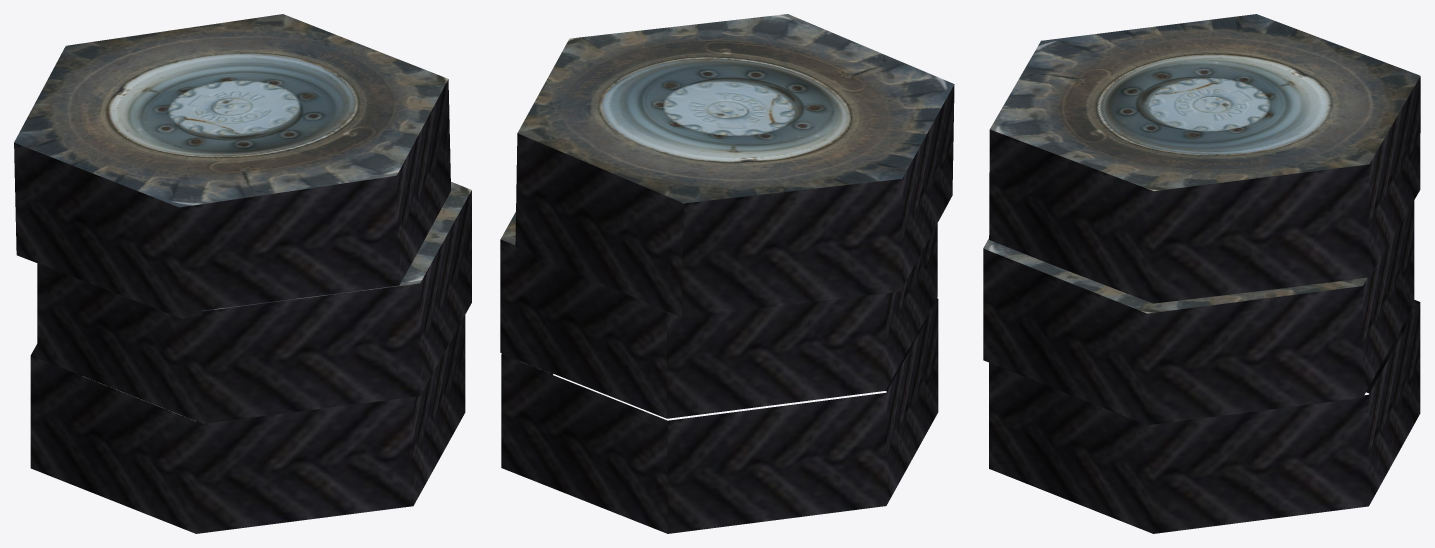
The model's file is Tyres.fbx.
3 views of the same model, side by side, from view 1: azimuth 30°, elevation 25°; view 2: azimuth 150°, elevation 25°; view 3: azimuth 270°, elevation 25° (orthographic).
Parts seen in each view (by area): view 1: Tyres; view 2: Tyres; view 3: Tyres.
Part boxes in pixels (x1,y1,x2,y2): Tyres: [14, 14, 471, 533]; Tyres: [500, 14, 954, 533]; Tyres: [983, 14, 1420, 533].
Size of the model in its own units: 143 by 115 by 136.
